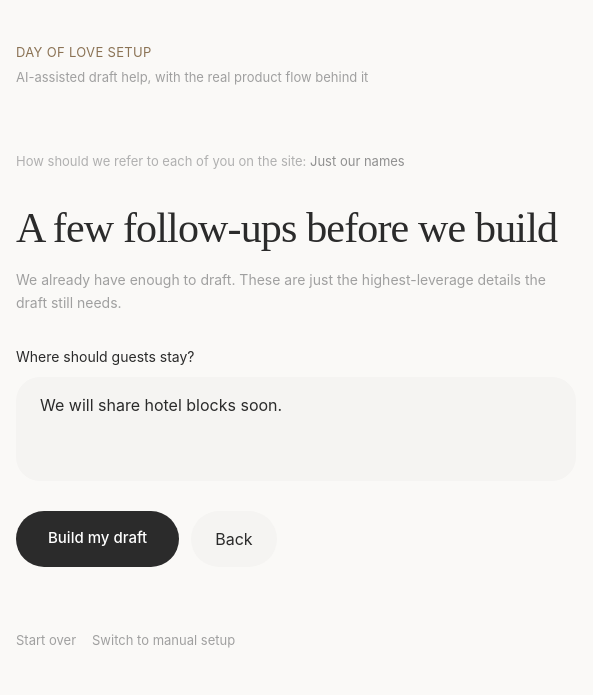
QuickStart flow guards › returns to the question view when backing out of follow-ups
Expected: the heading "A few follow-ups before we build" is shown, [16, 203, 576, 253]
Step 1. Click the button "Back" → (234, 539), box [191, 511, 277, 567]
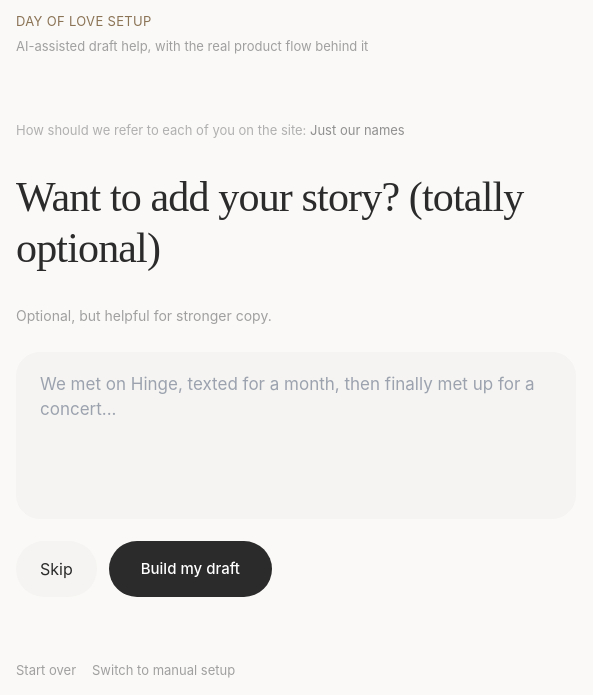
Expected: the heading "Want to add your story? (totally optional)" is shown, [16, 172, 576, 273]
Expected: the heading "A few follow-ups before we build" is gone
